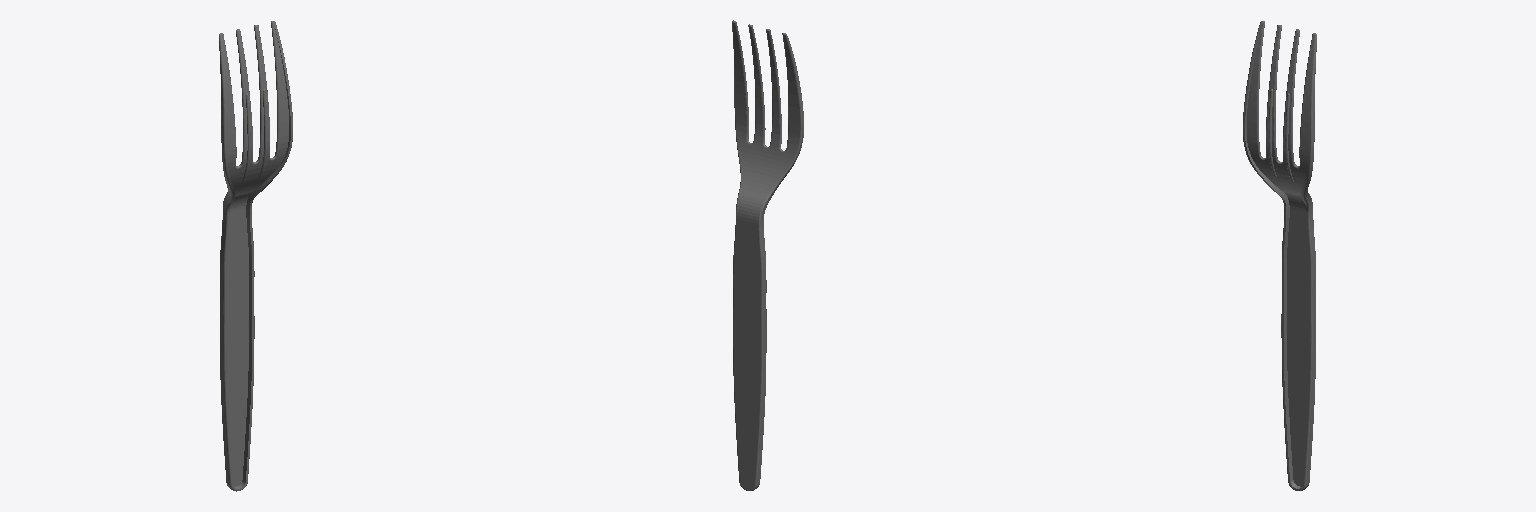
The robot description file, URDF, robot "fork":
<robot name="fork">
  <link name="fork">
    <visual>
      <geometry>
        <mesh filename="fork.stl" />
      </geometry>
      <material name="c">
        <color rgba="0.5 0.5 0.5 0.0" />
      </material>
    </visual>
    <collision>
      <geometry>
        <mesh filename="fork.stl" scale="0.10 0.10 0.10" />
      </geometry>
    </collision>
  </link>
</robot>

--- What the picture shows (computed from the rendered views, not written in the file) ---
The picture shows the robot from 3 angles, left to right: view 1: azimuth 30°, elevation 25°; view 2: azimuth 150°, elevation 25°; view 3: azimuth 330°, elevation 25°; orthographic projection.
Robot: fork — 1 links, 0 joints (none); root link fork; default pose: all joints at 0.
Links seen in each view (by area): view 1: fork; view 2: fork; view 3: fork.
Boxes of the visible links, x1=… form: fork: x1=219, y1=21, x2=292, y2=491; fork: x1=732, y1=20, x2=803, y2=490; fork: x1=1243, y1=21, x2=1316, y2=490.
Bounding box of the posed robot: 0.0248 × 0.015 × 0.16 m (x, y, z).
Meshes: 1 distinct files referenced, 1 mesh visuals loaded (1 binary STL).